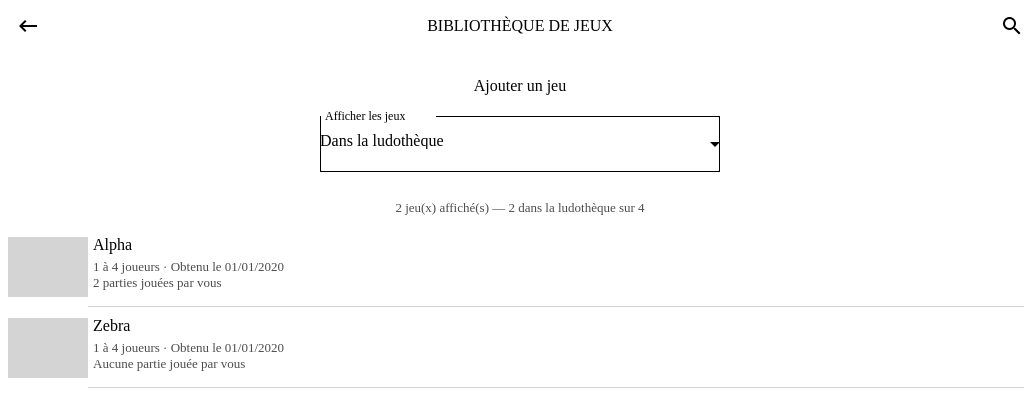
GameLibraryComponent filters › separates personally played and never played outside-library games through the dropdown
Select "Hors ludothèque · déjà joué" in the dropdown labelled "Afficher les jeux" at [520, 140], box [320,132,720,149]
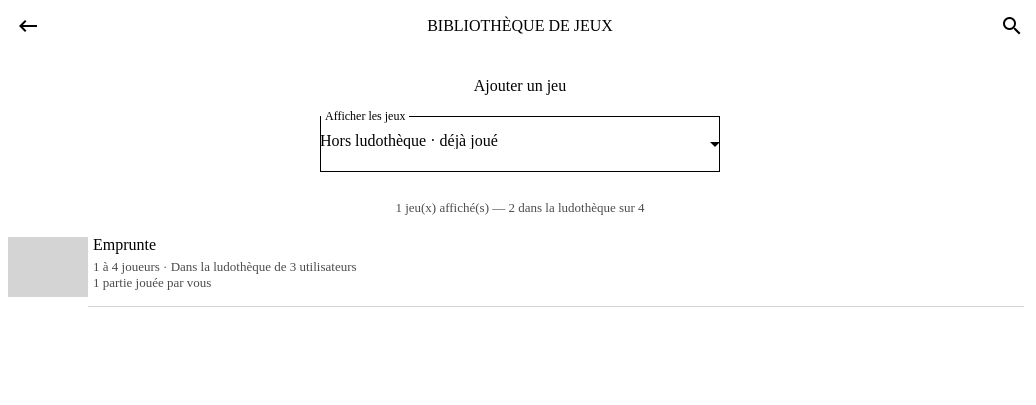
Check: the text "1 partie jouée par vous" is shown, box [93,275,211,290]
Select "Hors ludothèque · jamais joué" in the dropdown labelled "Afficher les jeux" at [520, 140], box [320,132,720,149]
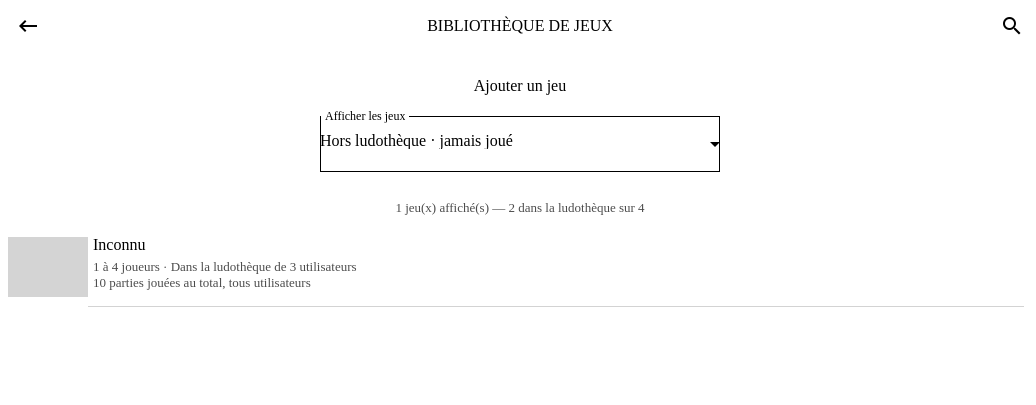
Check: the text "10 parties jouées au total, tous utilisateurs" is shown, box [93,275,311,290]
